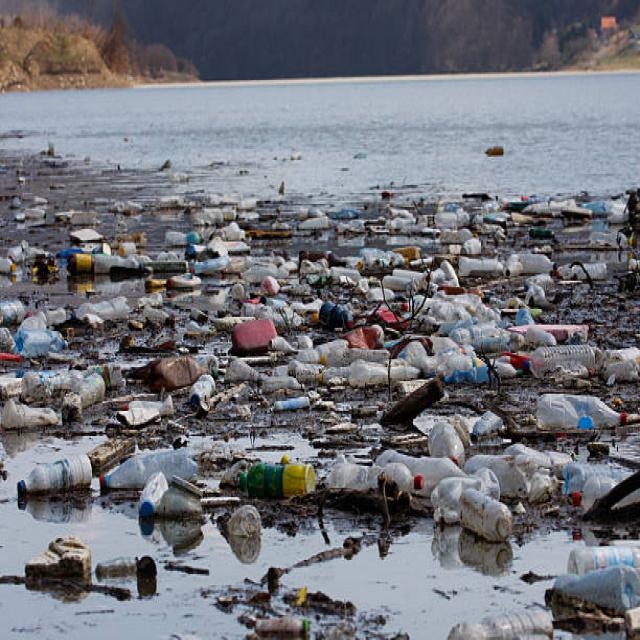plastic: (57, 192, 368, 392), (409, 210, 587, 515)
